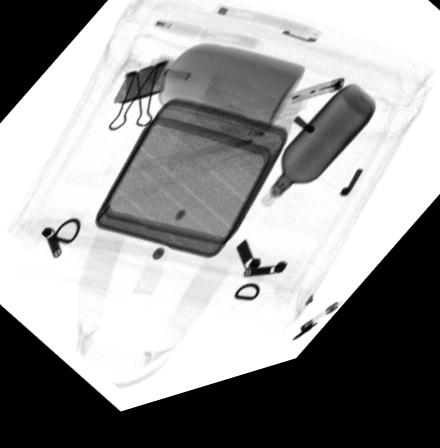Lighter: (285, 97, 345, 123)
